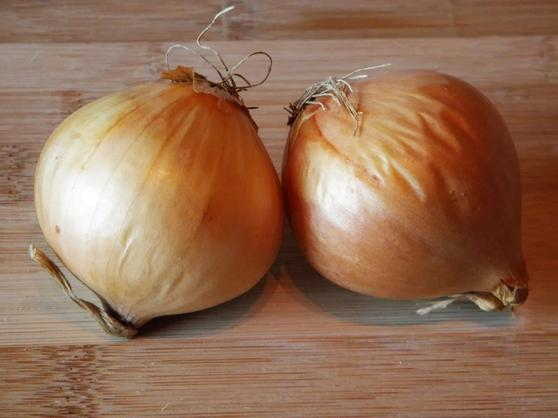onion: (26, 57, 287, 330), (289, 57, 531, 322)
